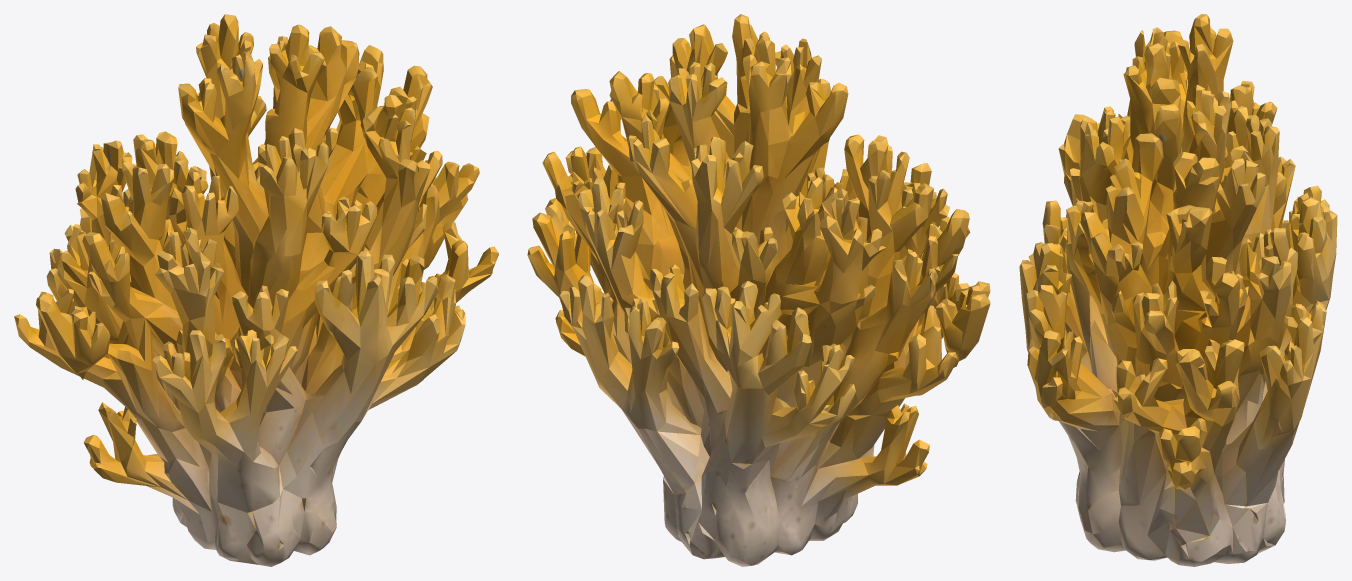
File: civciv.glb
3 views of the same model, side by side, from view 1: azimuth 30°, elevation 25°; view 2: azimuth 150°, elevation 25°; view 3: azimuth 270°, elevation 25° (orthographic). The views are drawn at different scales.
Visible parts, largest first — view 1: output_unwrapped; view 2: output_unwrapped; view 3: output_unwrapped.
Boxes of the visible parts, <box> form: output_unwrapped: <box>14,14,498,566</box>; output_unwrapped: <box>527,14,990,566</box>; output_unwrapped: <box>1019,14,1337,566</box>.
Size of the model in its own units: 1.71 by 1.9 by 1.06.
1 material, 1 textured.
